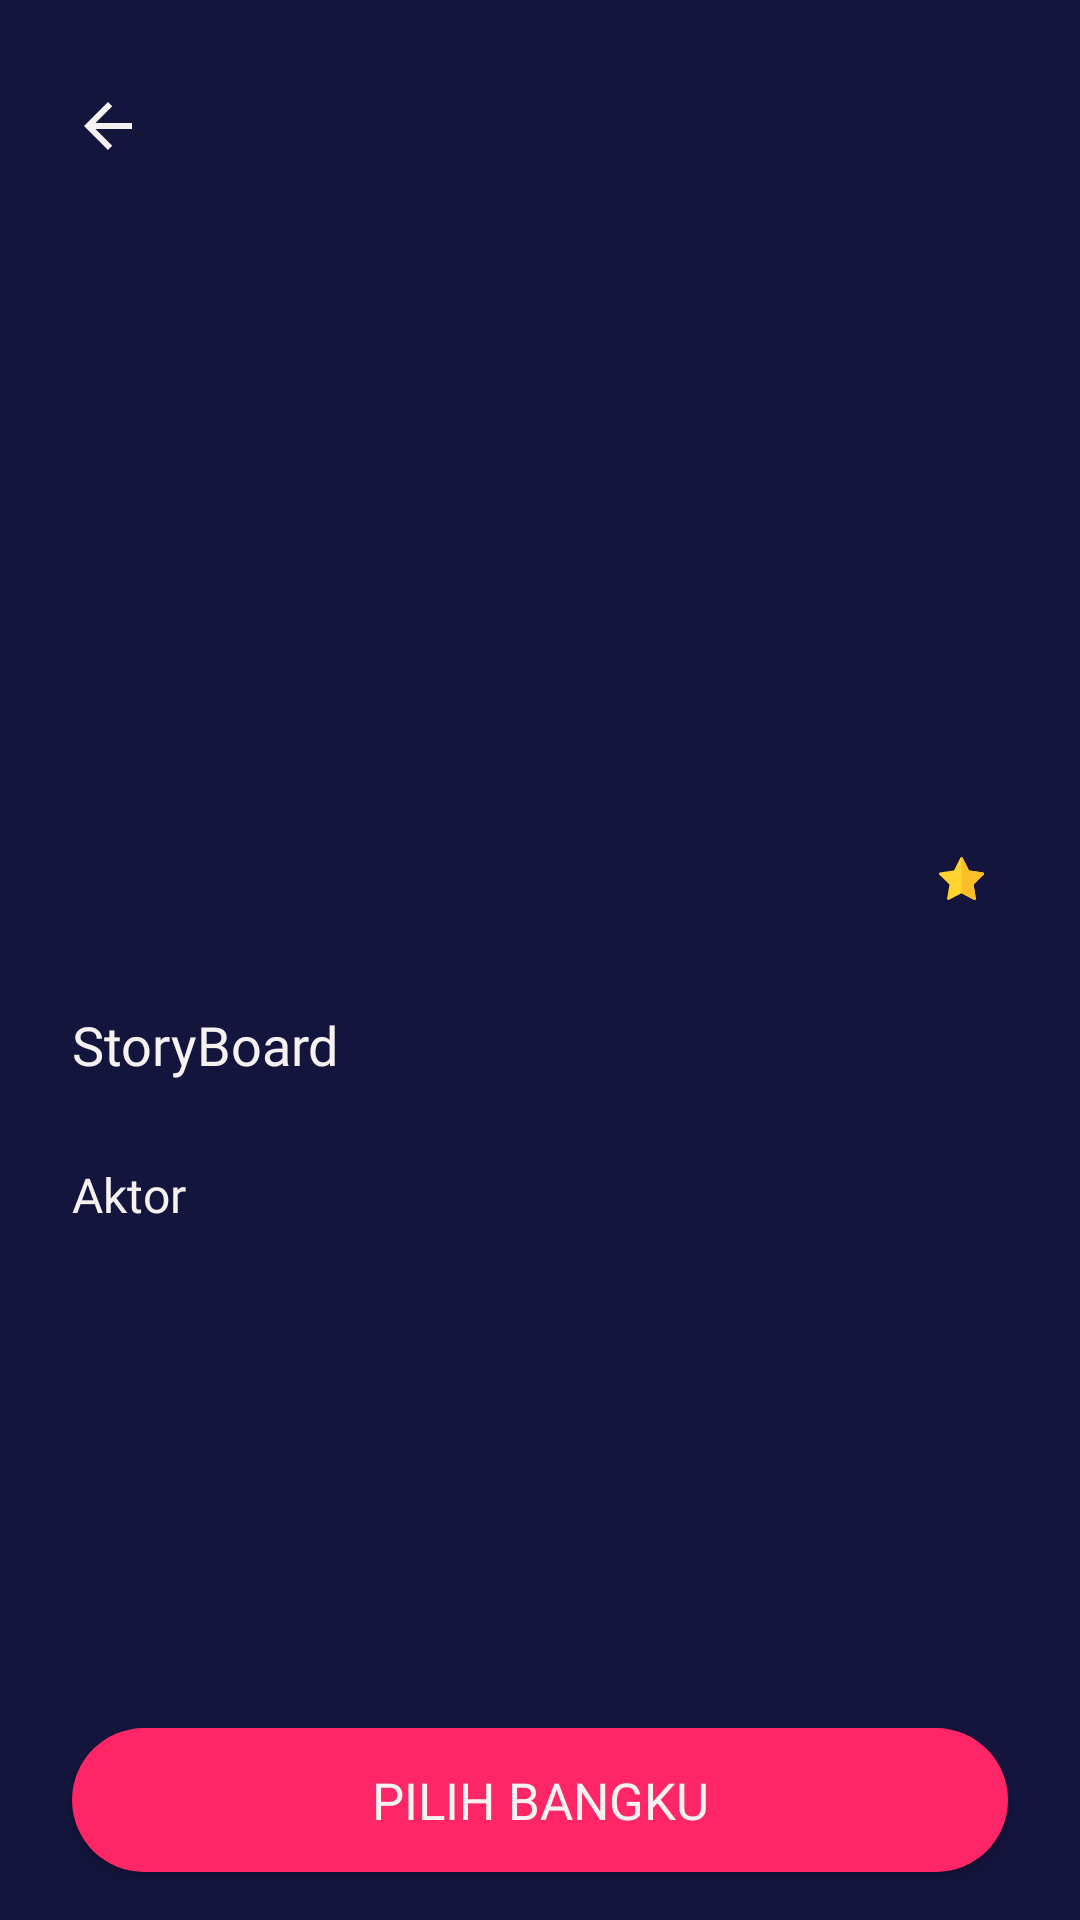

Point at icon controls on the screen. Image size 1080px×1920px, points as [x,y].
arrow back: [108,126]
